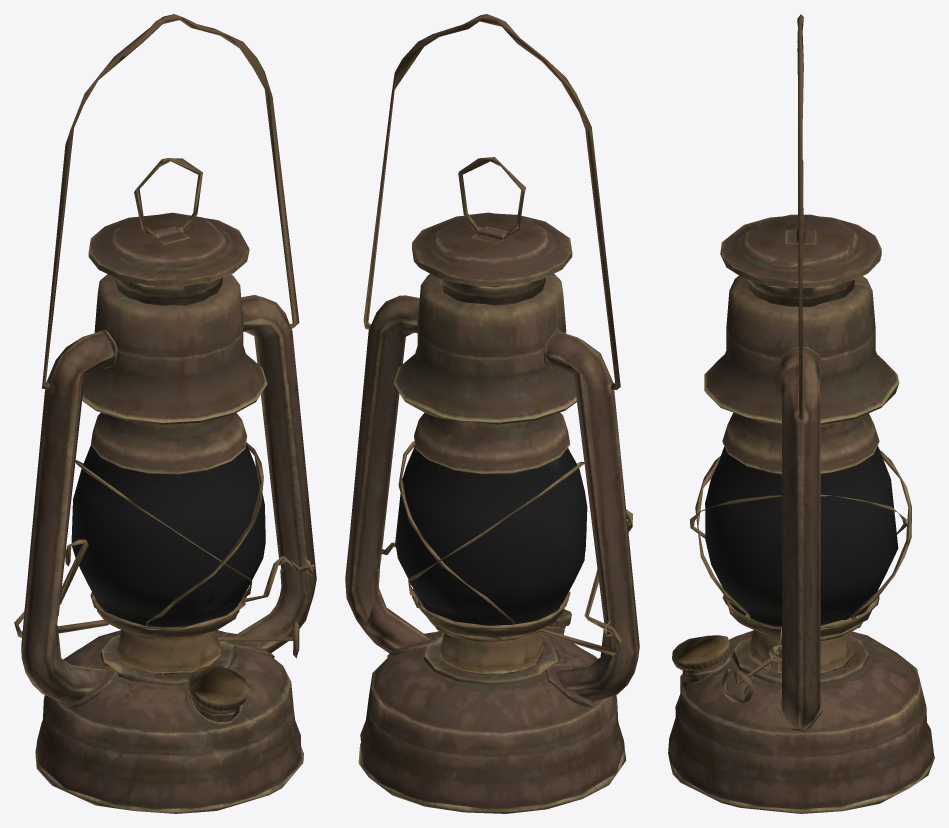
The model's file is Lantern_01.glb.
3 views of the same model, side by side, from view 1: azimuth 30°, elevation 25°; view 2: azimuth 150°, elevation 25°; view 3: azimuth 270°, elevation 25° (orthographic).
Parts seen in each view (by area): view 1: Lantern_01, Lantern_01_glass; view 2: Lantern_01, Lantern_01_glass; view 3: Lantern_01, Lantern_01_glass.
Boxes of the visible parts, x1,y1,x2,y2 form: Lantern_01: [14, 14, 316, 813]; Lantern_01_glass: [71, 443, 265, 626]; Lantern_01: [345, 14, 639, 813]; Lantern_01_glass: [395, 445, 587, 625]; Lantern_01: [668, 14, 934, 813]; Lantern_01_glass: [705, 446, 898, 626].
Bounding box in the file's own units: 0.1219 × 0.2939 × 0.096.
Materials: 2 (2 with a texture image).
